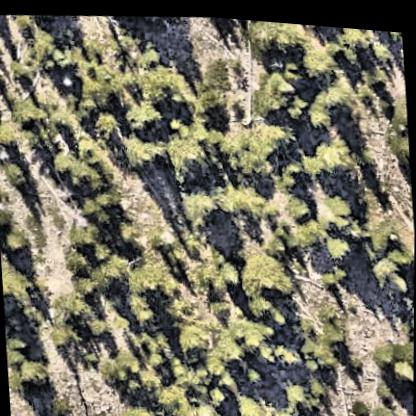tree-top: (123, 118, 208, 180), (217, 119, 283, 180), (162, 116, 222, 180), (299, 122, 364, 180), (238, 237, 297, 299), (272, 17, 343, 68), (248, 57, 306, 119), (118, 123, 171, 173), (248, 16, 314, 53), (298, 31, 343, 77), (1, 251, 36, 306), (308, 78, 351, 122), (173, 309, 215, 354), (30, 18, 67, 68), (123, 92, 166, 134), (55, 149, 99, 190), (293, 205, 332, 247), (141, 260, 180, 301), (15, 351, 53, 393), (125, 283, 162, 322), (324, 188, 360, 227), (146, 59, 180, 100), (16, 94, 52, 132), (78, 75, 115, 111), (234, 383, 273, 416), (195, 261, 229, 298), (67, 216, 103, 250), (181, 188, 217, 222), (368, 243, 400, 281), (339, 22, 373, 56), (366, 210, 395, 248), (322, 226, 356, 257), (305, 328, 335, 363), (227, 185, 261, 215), (206, 55, 236, 86), (242, 320, 270, 352), (105, 247, 132, 279), (373, 330, 401, 360), (159, 378, 187, 408), (222, 329, 247, 362), (387, 352, 414, 382), (94, 113, 121, 143), (279, 335, 306, 365), (8, 161, 34, 192), (0, 114, 21, 151), (202, 87, 228, 116), (392, 123, 411, 162), (286, 375, 311, 404), (49, 322, 75, 349), (247, 289, 273, 315), (123, 349, 147, 377), (392, 236, 415, 265), (116, 215, 140, 242), (13, 57, 36, 85), (77, 275, 102, 300), (208, 380, 232, 406), (245, 358, 268, 385), (351, 392, 375, 415), (89, 314, 111, 337), (270, 301, 291, 324), (372, 33, 390, 59), (209, 353, 230, 375), (276, 400, 302, 416), (111, 361, 128, 383), (124, 373, 142, 393), (183, 404, 210, 416), (222, 368, 237, 386), (136, 406, 163, 416), (380, 404, 401, 416)
